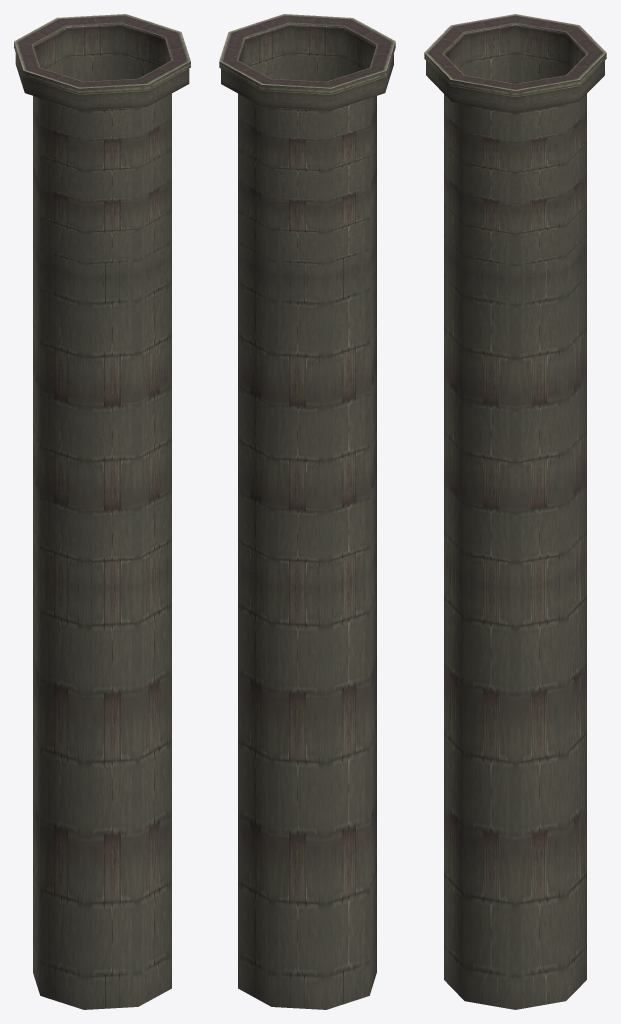
File: dcfx2_sj_01.FBX
The picture shows the model from 3 angles, left to right: view 1: azimuth 30°, elevation 25°; view 2: azimuth 150°, elevation 25°; view 3: azimuth 270°, elevation 25°; orthographic projection.
Parts seen in each view (by area): view 1: dcfx2_sj_01; view 2: dcfx2_sj_01; view 3: dcfx2_sj_01.
Boxes of the visible parts, box(x1,y1,x2,y2) form: dcfx2_sj_01: box(14, 14, 190, 1009); dcfx2_sj_01: box(219, 14, 395, 1009); dcfx2_sj_01: box(424, 14, 606, 1009).
Bounding box in the file's own units: 899 × 5043 × 899.
